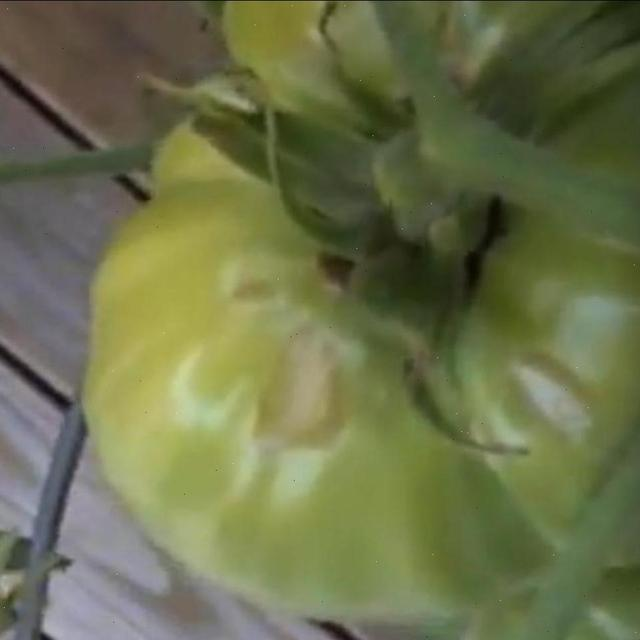Sunscald Fruit: (66, 69, 368, 265)
